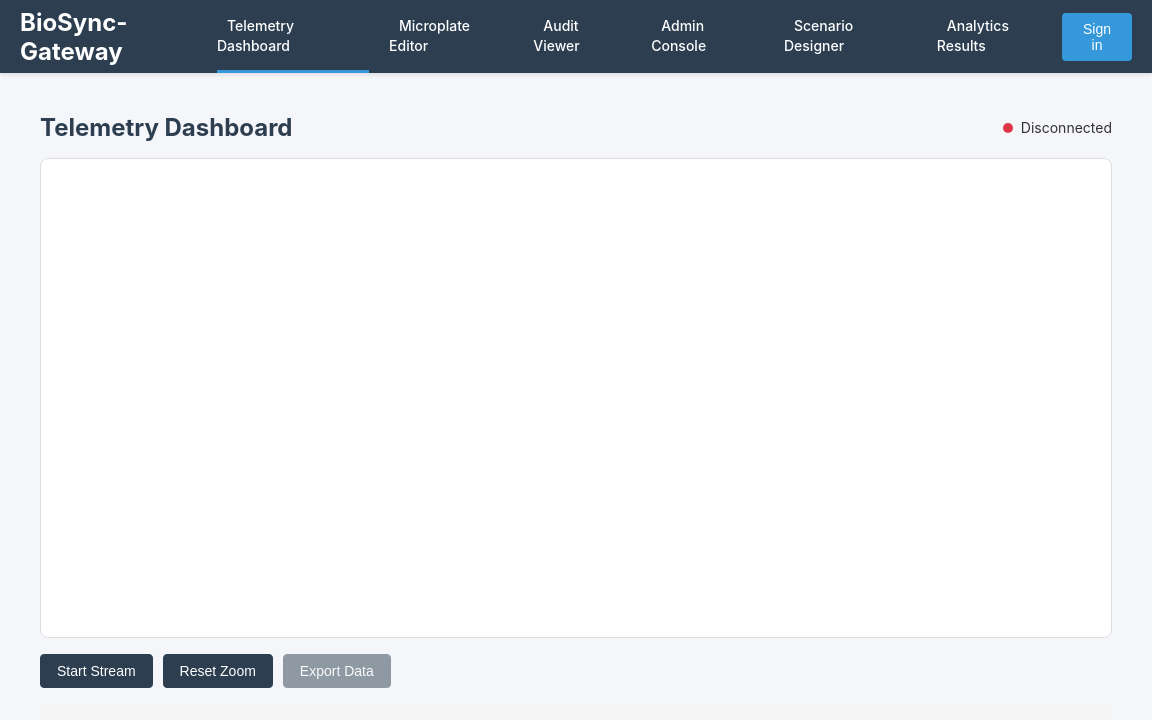
it: NFR-U4 — Scenario Designer assembled & executed in <=5 interactions › from the main console: navigate via Navigation then run = 2 interactions
This screenshot has width=1152, height=720.
Expected: the heading "BioSync-Gateway" is shown, [20, 8, 128, 66]
Click the link "Scenario Designer" at x=819, y=26, box [784, 17, 853, 54]
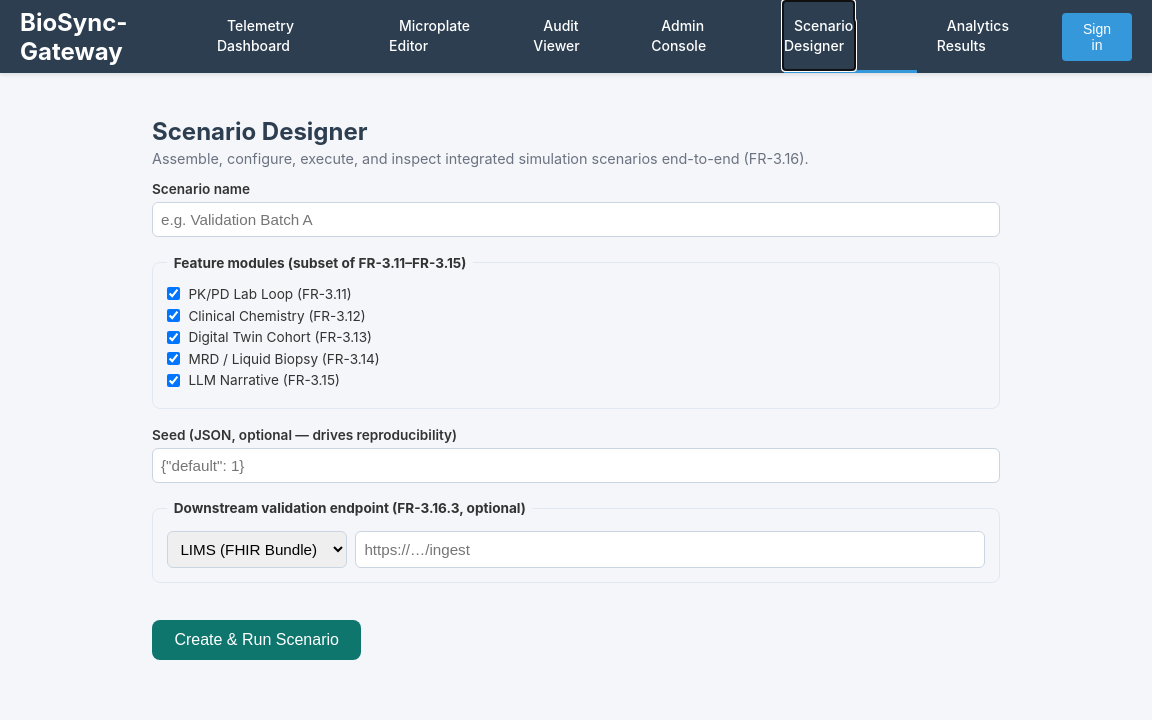
Expected: the button "Create & Run Scenario" is shown
Click the button "Create & Run Scenario" at x=257, y=640, box [152, 620, 361, 660]
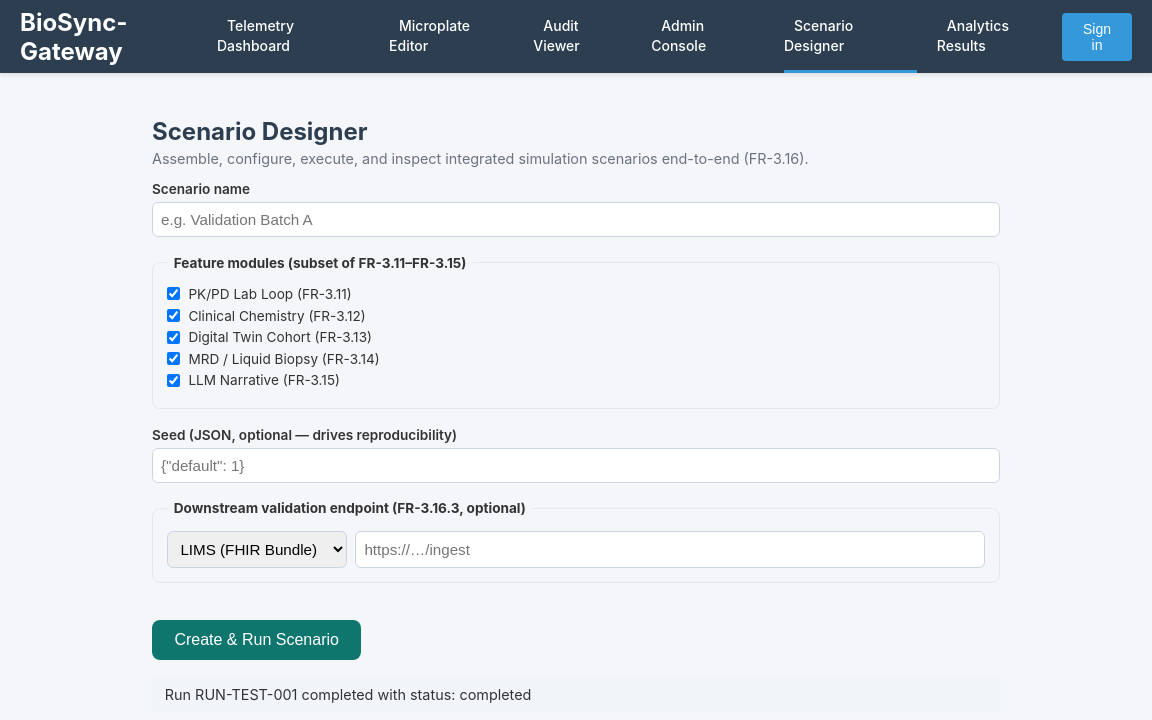
Expected: the text "Run RUN-TEST-001 completed with status: completed" is shown, [152, 676, 1000, 712]
